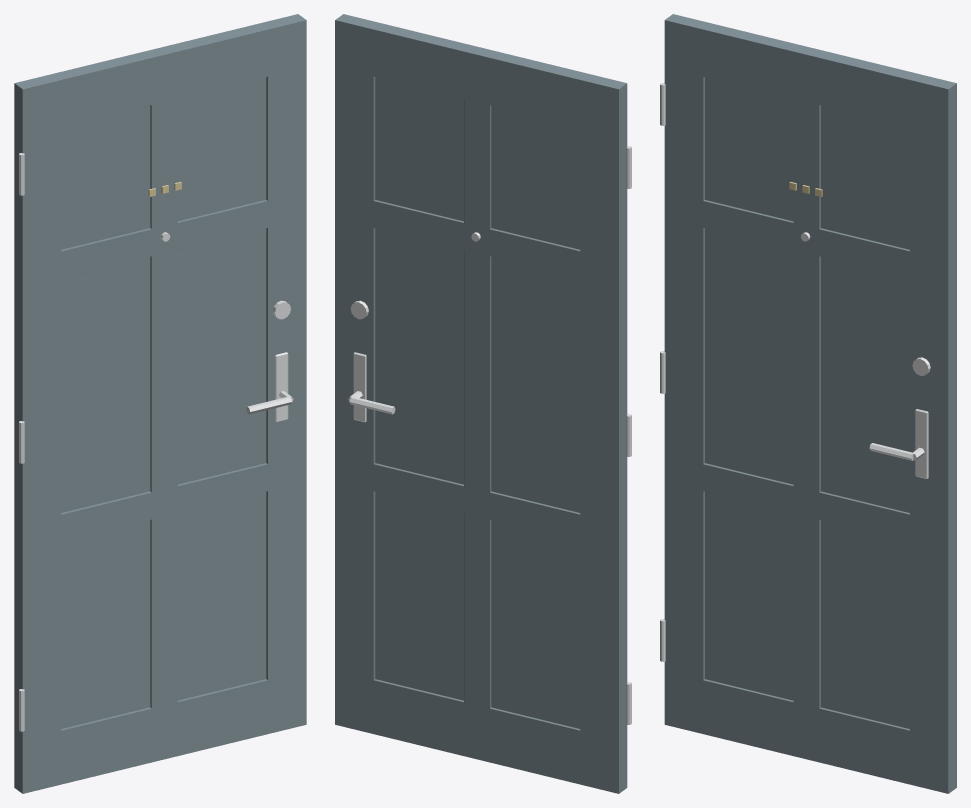
The model's file is door_unit.glb.
3 views of the same model, side by side, from view 1: azimuth 30°, elevation 25°; view 2: azimuth 150°, elevation 25°; view 3: azimuth 330°, elevation 25° (orthographic).
Parts seen in each view (by area): view 1: door_unit_door, door_unit_chrome; view 2: door_unit_door, door_unit_chrome; view 3: door_unit_door, door_unit_chrome.
Part boxes in pixels (left/top/right/bottom): door_unit_door: left=14, top=14, right=306, bottom=793; door_unit_chrome: left=19, top=153, right=293, bottom=731; door_unit_door: left=335, top=14, right=627, bottom=793; door_unit_chrome: left=348, top=146, right=631, bottom=724; door_unit_door: left=664, top=14, right=956, bottom=793; door_unit_chrome: left=660, top=83, right=930, bottom=661.
Bounding box in the file's own units: 0.892 × 2.09 × 0.167.
